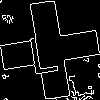L: (25, 25, 60, 75)
